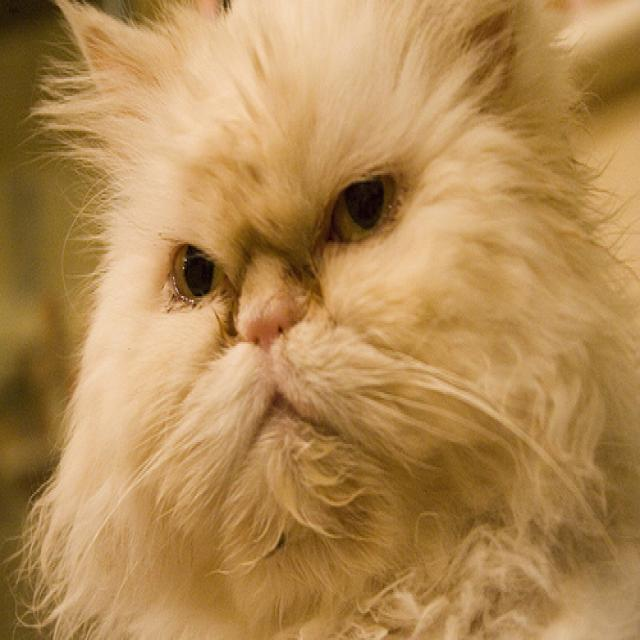cat: (53, 0, 517, 507)
